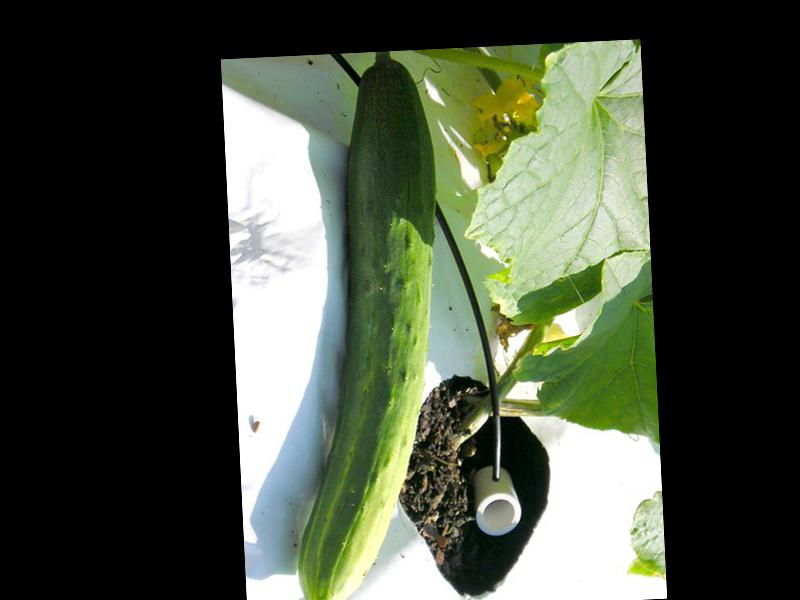Cucumber: (274, 52, 455, 600)
